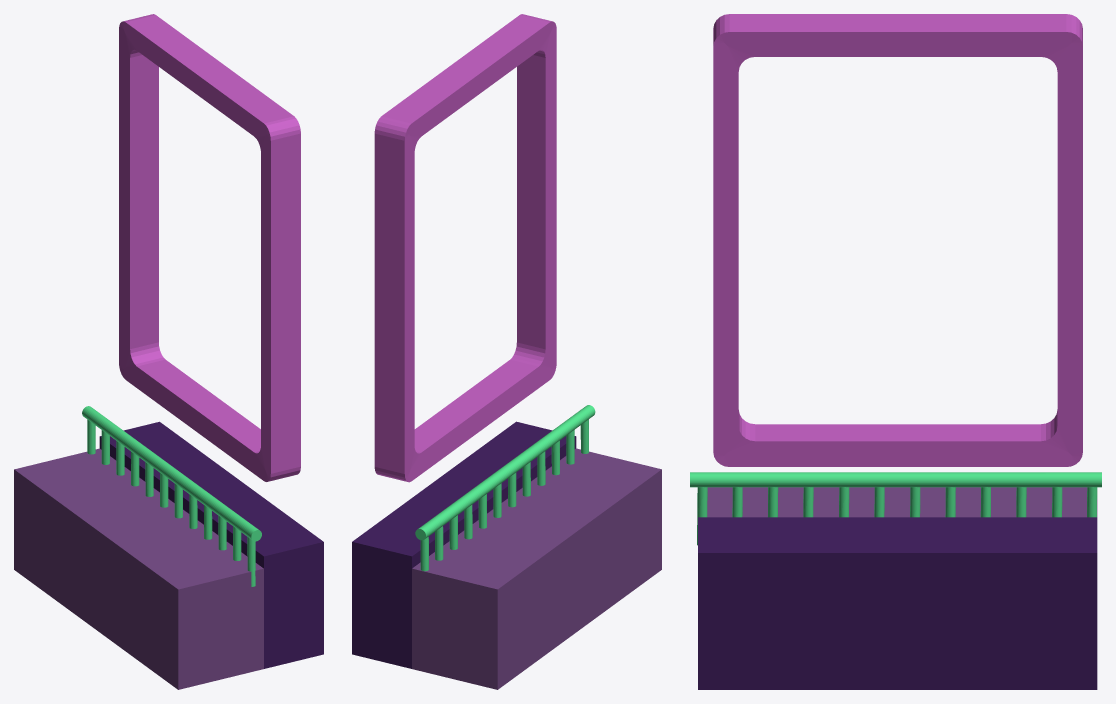
The model's file is platform.fbx.
3 renders of one model, left to right at view 1: azimuth 30°, elevation 25°; view 2: azimuth 150°, elevation 25°; view 3: azimuth 270°, elevation 25°, orthographic. The views are drawn at different scales.
Visible parts, largest first — view 1: 큐브, 큐브.001, 큐브.002, 실린더.010; view 2: 큐브, 큐브.001, 큐브.002, 실린더.010; view 3: 큐브.002, 큐브, 실린더.010, 큐브.001.
Part boxes in pixels (x1,y1,x2,y2): 큐브: (119, 14, 300, 481); 큐브.001: (14, 448, 263, 689); 큐브.002: (99, 421, 323, 668); 실린더.010: (82, 406, 261, 586); 큐브: (374, 14, 556, 482); 큐브.001: (412, 448, 661, 689); 큐브.002: (352, 421, 576, 668); 실린더.010: (415, 405, 595, 571); 큐브.002: (698, 517, 1097, 689); 큐브: (713, 14, 1082, 466); 실린더.010: (690, 472, 1101, 545); 큐브.001: (707, 487, 1097, 517).
Bounding box in the file's own units: 288 × 1009 × 581.
